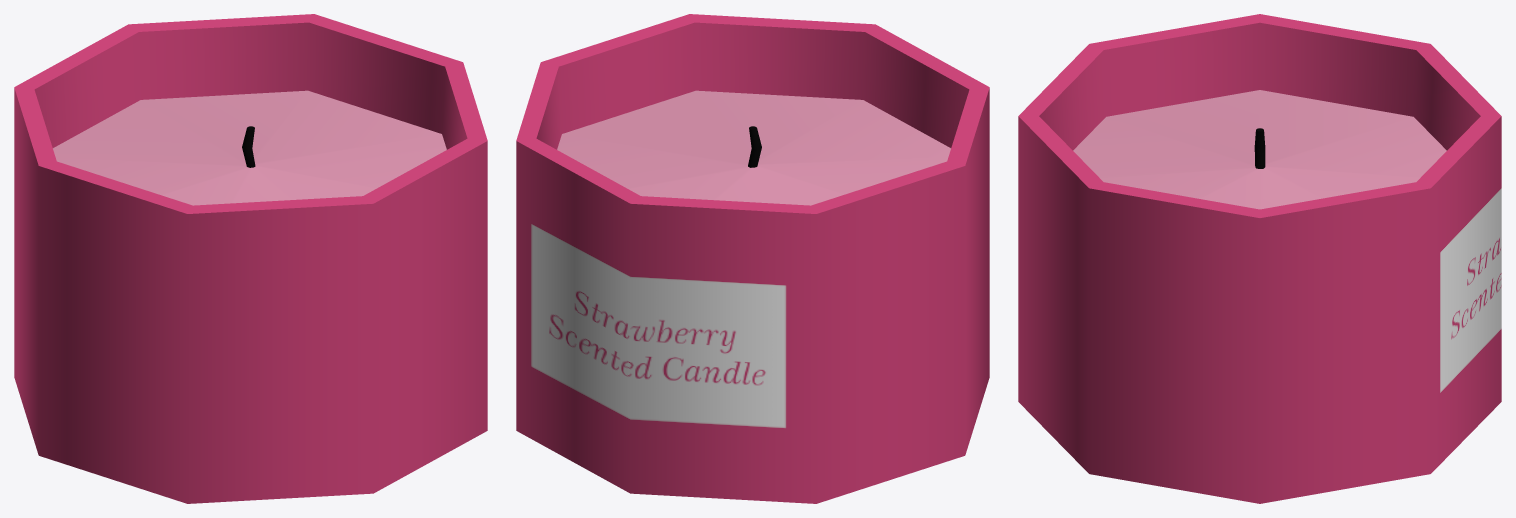
File: furniture_decor_210017.glb
The picture shows the model from 3 angles, left to right: view 1: azimuth 30°, elevation 25°; view 2: azimuth 150°, elevation 25°; view 3: azimuth 270°, elevation 25°; orthographic projection.
Parts seen in each view (by area): view 1: furniture_decor_210017; view 2: furniture_decor_210017; view 3: furniture_decor_210017.
Part boxes in pixels (bbox=[...]): furniture_decor_210017: bbox=[14, 14, 487, 503]; furniture_decor_210017: bbox=[516, 14, 989, 503]; furniture_decor_210017: bbox=[1018, 14, 1501, 503].
Bounding box in the file's own units: 0.1295 × 0.0845 × 0.1295.
1 material, 1 textured.
